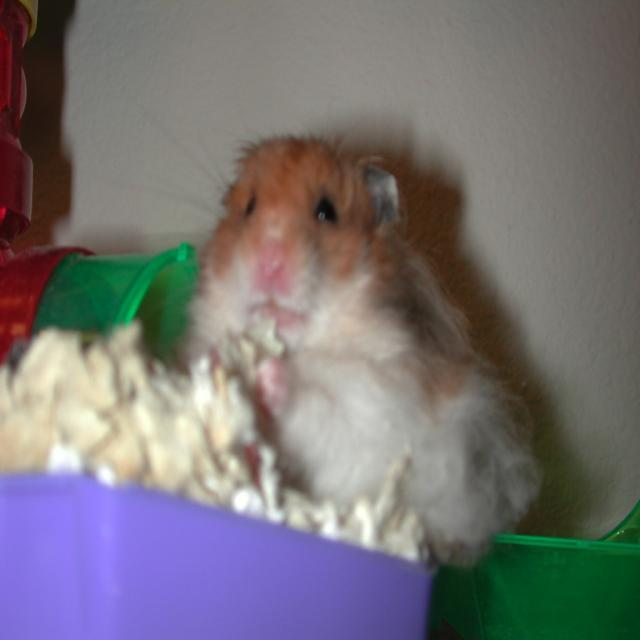rat: (178, 133, 545, 568)
